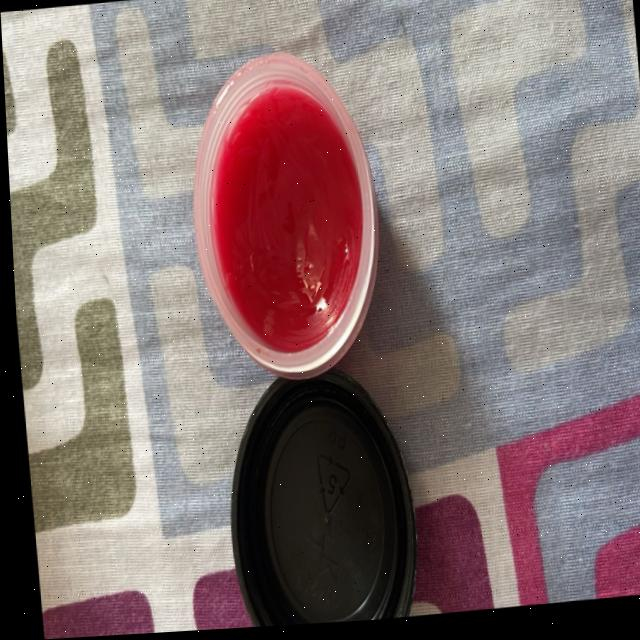lip balm: (167, 25, 407, 391)
